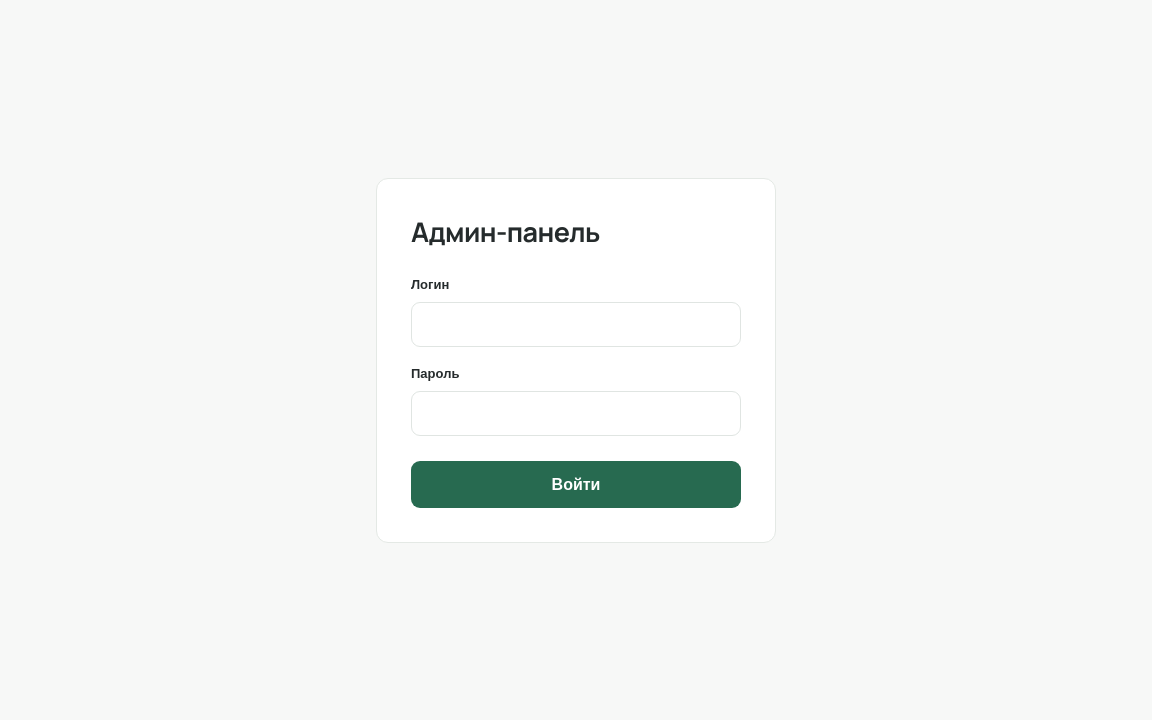
Test: админка › выход возвращает на форму входа
Type "admin" into the field labelled "Логин" at (576, 324), box [411,302,741,346]
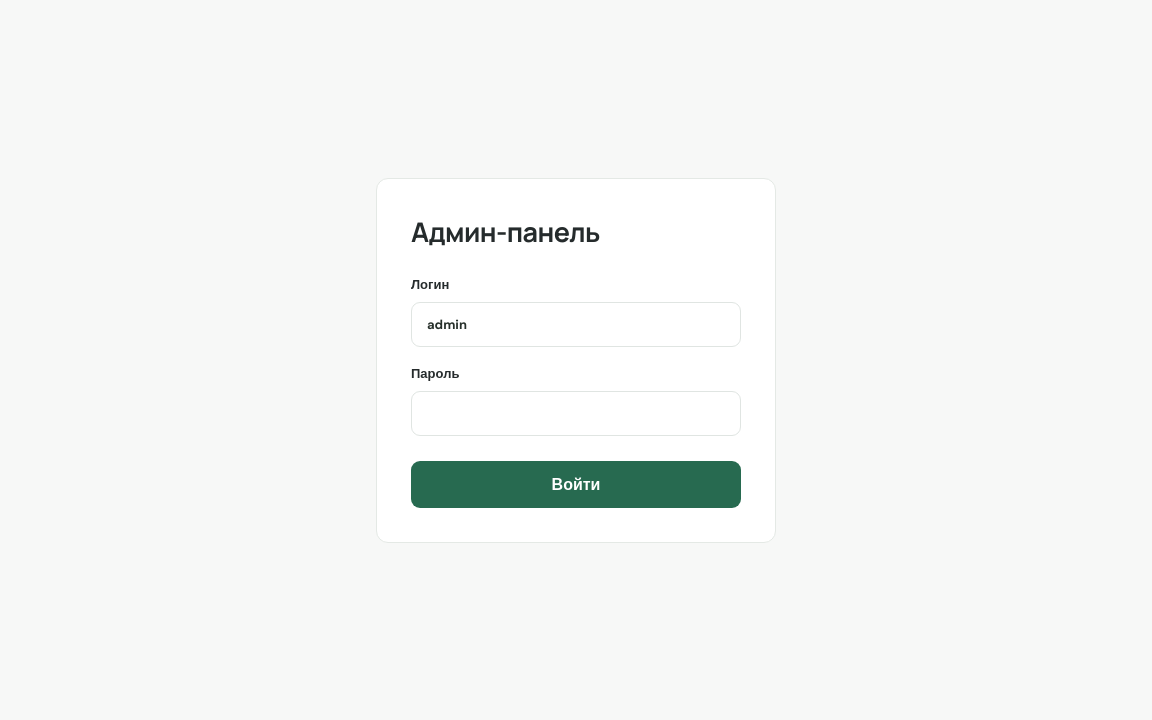
Type "secret-secret-1" into the password field labelled "Пароль" at (576, 413), box [411,390,741,436]
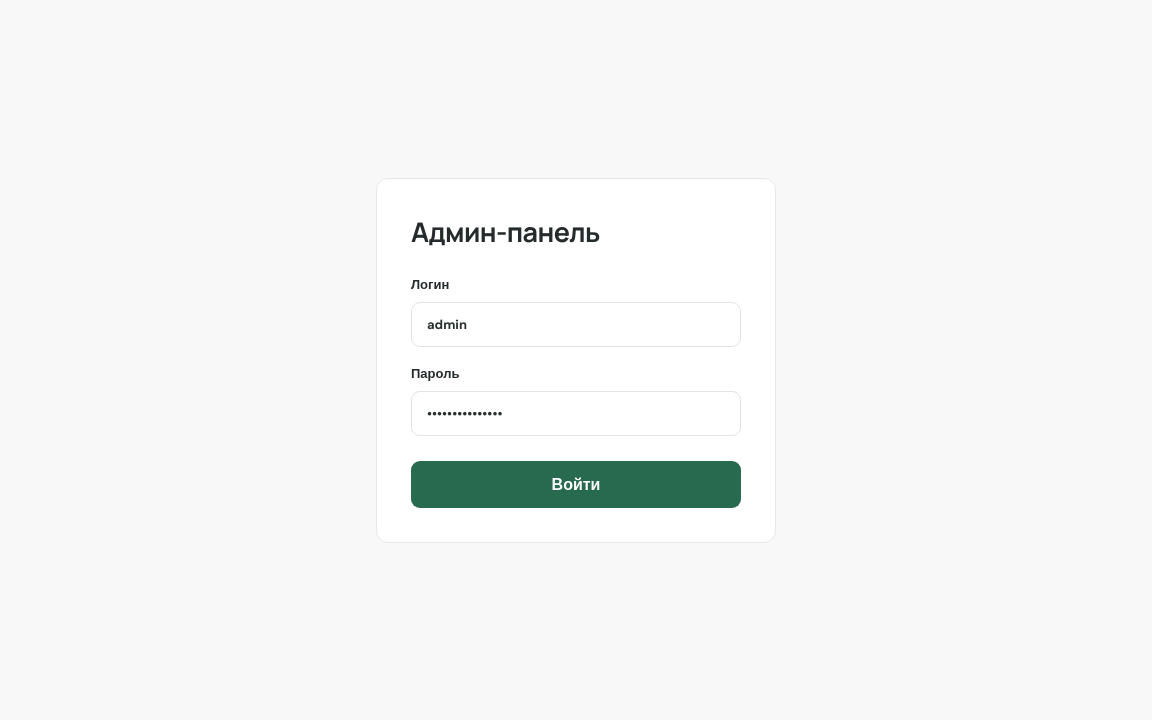
Click the button "Войти" at (576, 484), box [411,460,741,508]
(page scrolled)
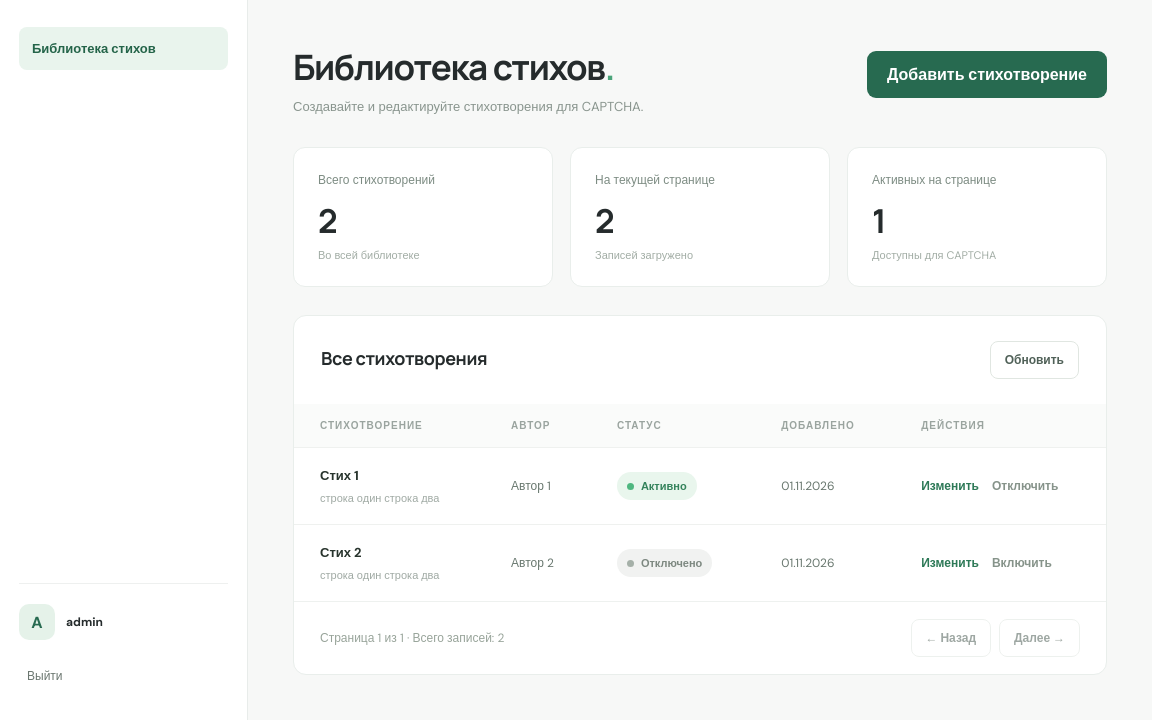
Expected: the text "Стих 1" is shown, [320,467,359,484]
Click the button "Выйти" at (45, 676), box [19,660,70,692]
(page scrolled)
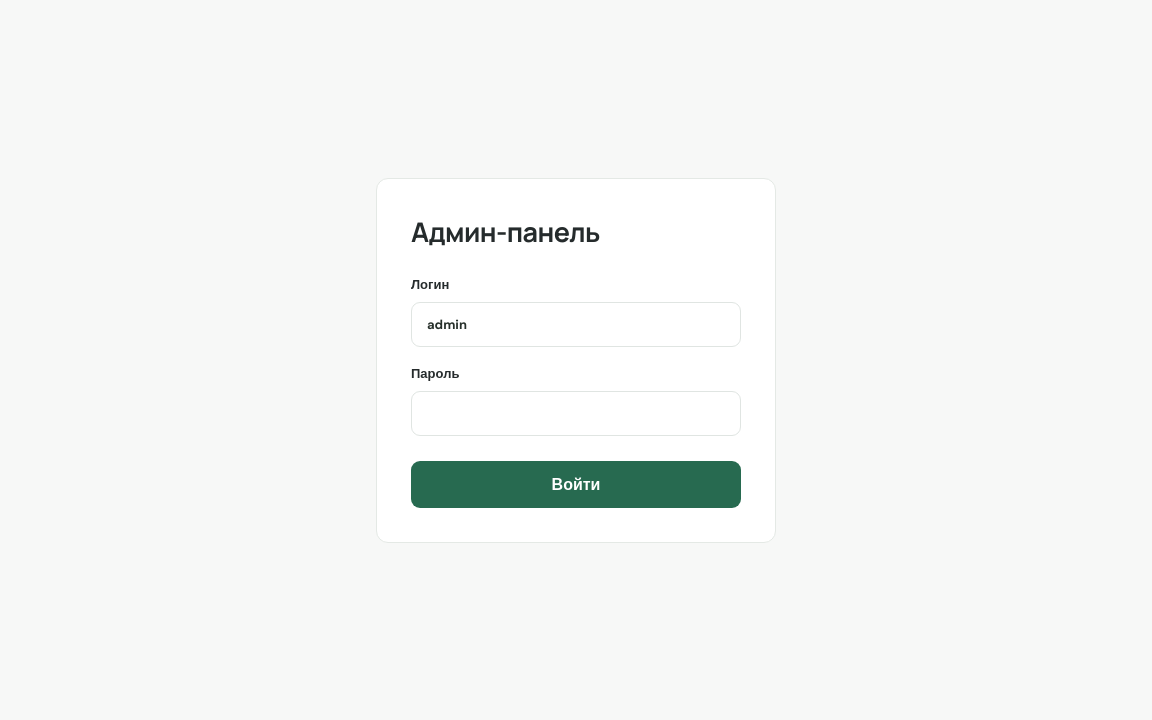
Expected: the heading "Админ-панель" is shown, [411,212,600,250]
